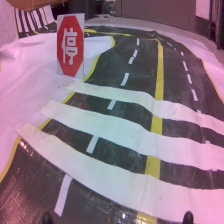stop: (55, 12, 85, 79)
